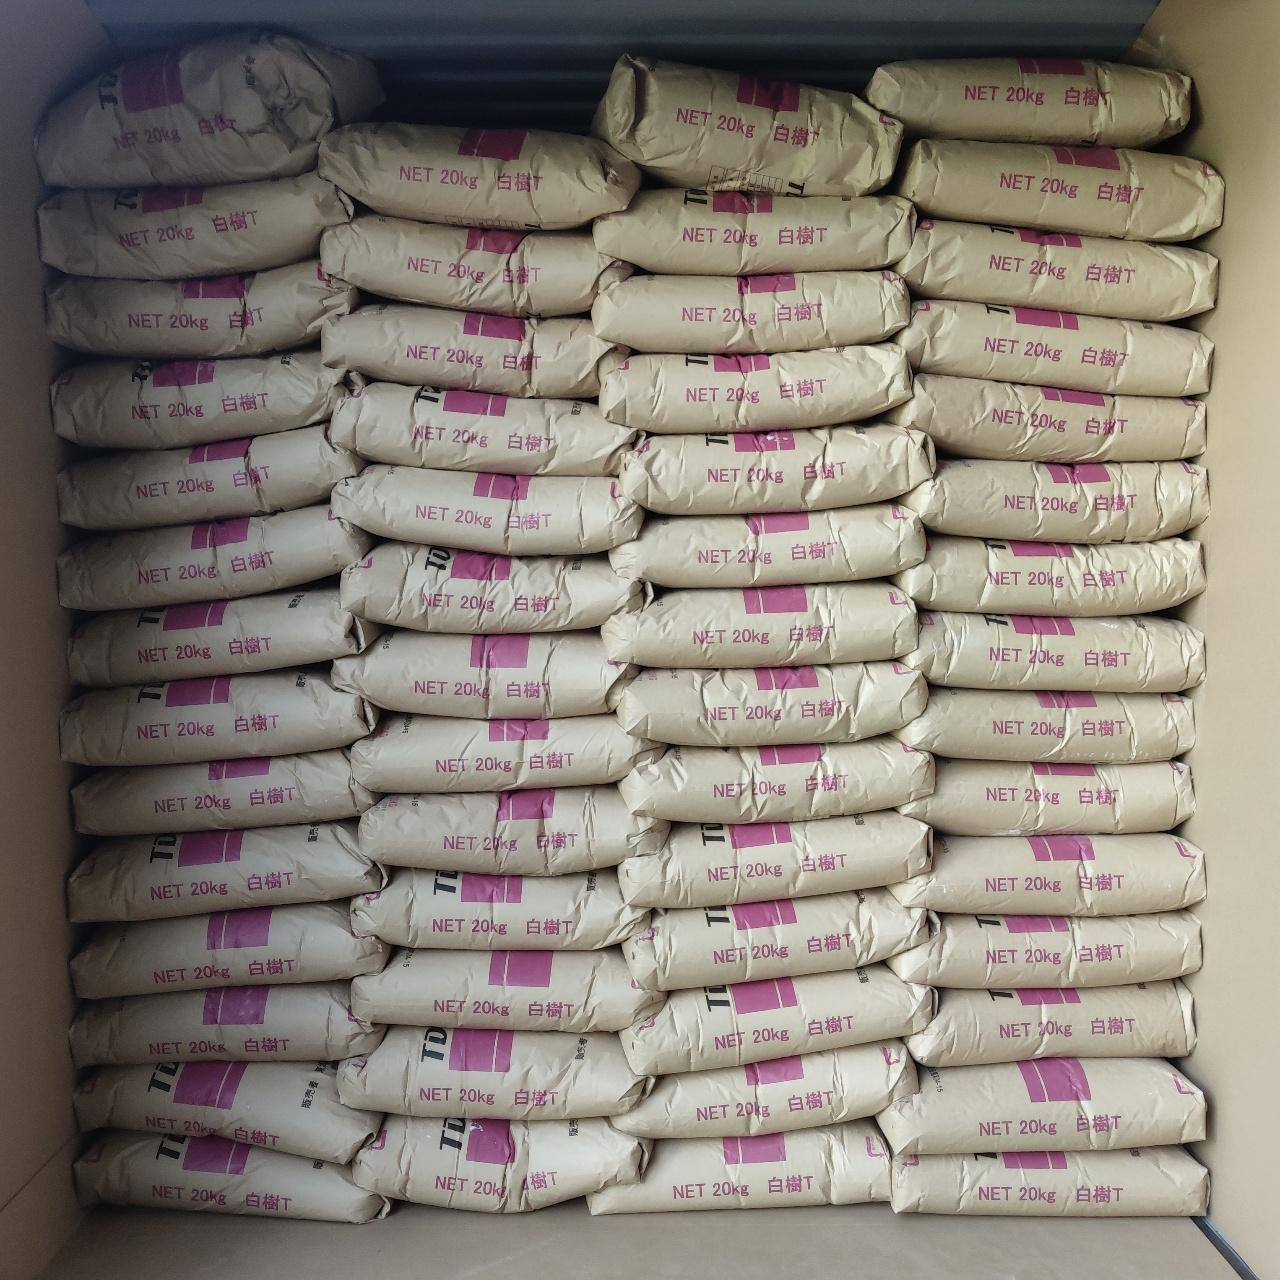sack: (36, 33, 382, 186), (592, 55, 902, 196), (622, 964, 936, 1075), (890, 138, 1224, 242), (39, 169, 354, 279), (319, 123, 641, 229), (58, 504, 379, 609), (898, 219, 1218, 322), (621, 887, 937, 991), (62, 662, 379, 765), (70, 582, 380, 687), (58, 424, 366, 529), (321, 215, 633, 317), (880, 1058, 1206, 1155), (70, 820, 385, 920), (70, 900, 389, 998), (73, 1061, 380, 1162), (50, 350, 366, 448), (896, 299, 1213, 396), (611, 1038, 917, 1138), (47, 261, 360, 358), (620, 811, 933, 907), (75, 1130, 389, 1223), (339, 1026, 652, 1119), (864, 58, 1191, 147), (354, 1115, 652, 1212), (588, 1117, 889, 1213), (882, 373, 1205, 462), (620, 423, 935, 514), (329, 382, 639, 474), (342, 542, 655, 632), (359, 785, 668, 875), (593, 189, 916, 275), (332, 466, 644, 555), (599, 344, 911, 433), (601, 580, 918, 667), (331, 630, 638, 719), (72, 748, 380, 836), (70, 981, 385, 1067), (621, 735, 934, 821), (322, 304, 609, 397), (351, 946, 664, 1031), (592, 270, 910, 353), (612, 503, 925, 587), (620, 661, 928, 746), (891, 535, 1205, 616), (893, 834, 1206, 915), (900, 460, 1208, 542), (906, 980, 1195, 1066), (902, 611, 1204, 692), (351, 715, 664, 792), (353, 867, 647, 948), (888, 911, 1201, 987), (899, 759, 1195, 834), (894, 688, 1194, 762), (891, 1146, 1208, 1216)
